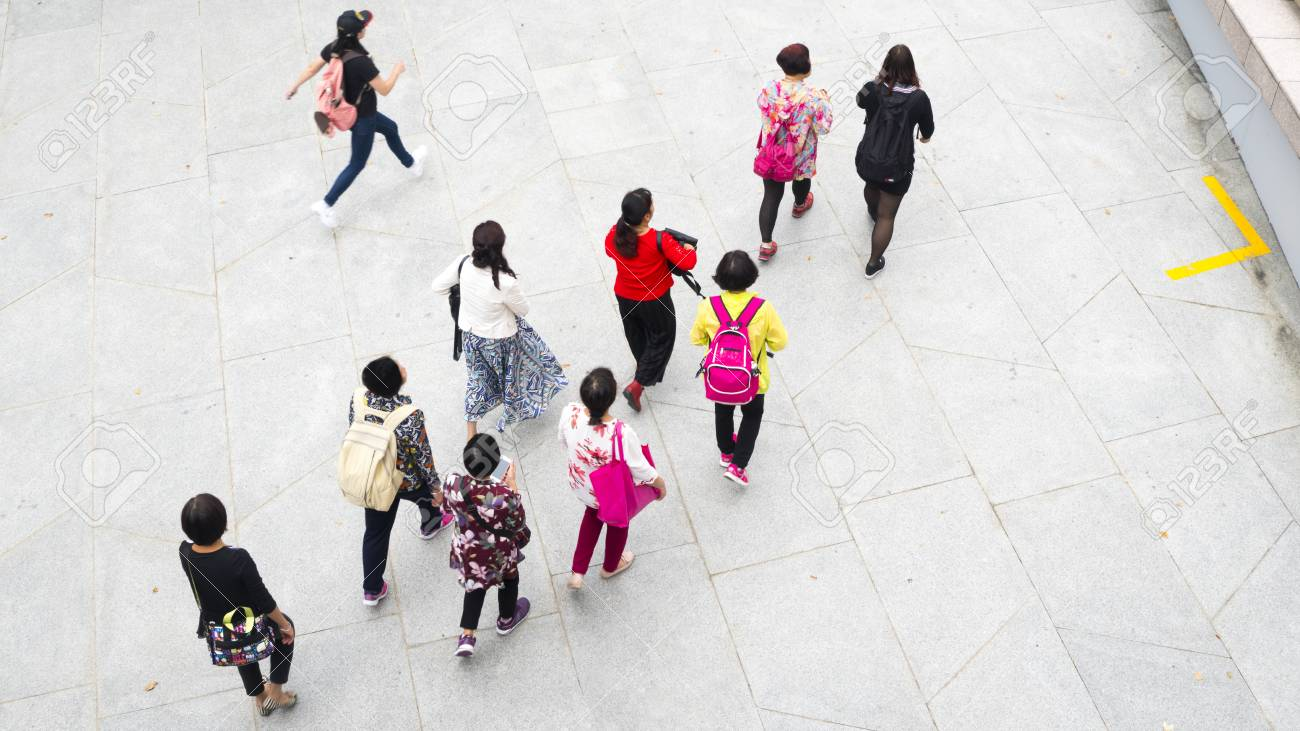person: (427, 216, 574, 446), (284, 7, 429, 231), (176, 490, 306, 717), (340, 351, 455, 607), (686, 245, 799, 495), (554, 362, 672, 594), (443, 430, 546, 670), (603, 182, 701, 415), (851, 37, 945, 279), (746, 37, 834, 261)
